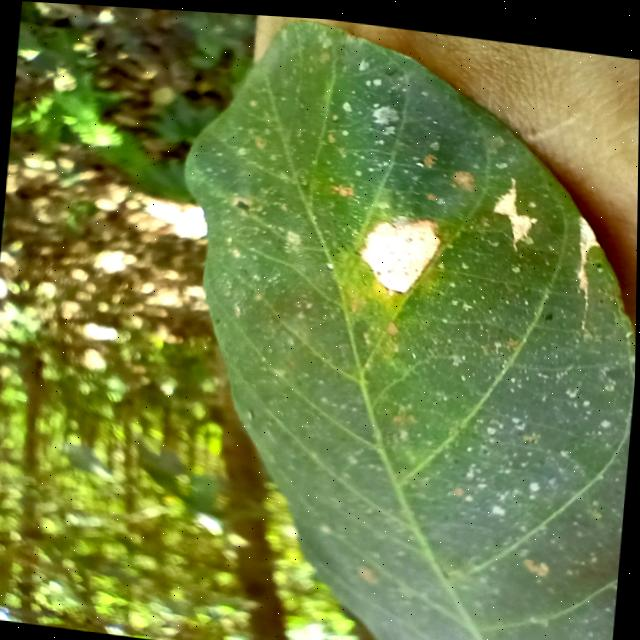Leaf-Blight: (356, 207, 442, 292), (493, 180, 537, 238), (573, 209, 603, 284)
